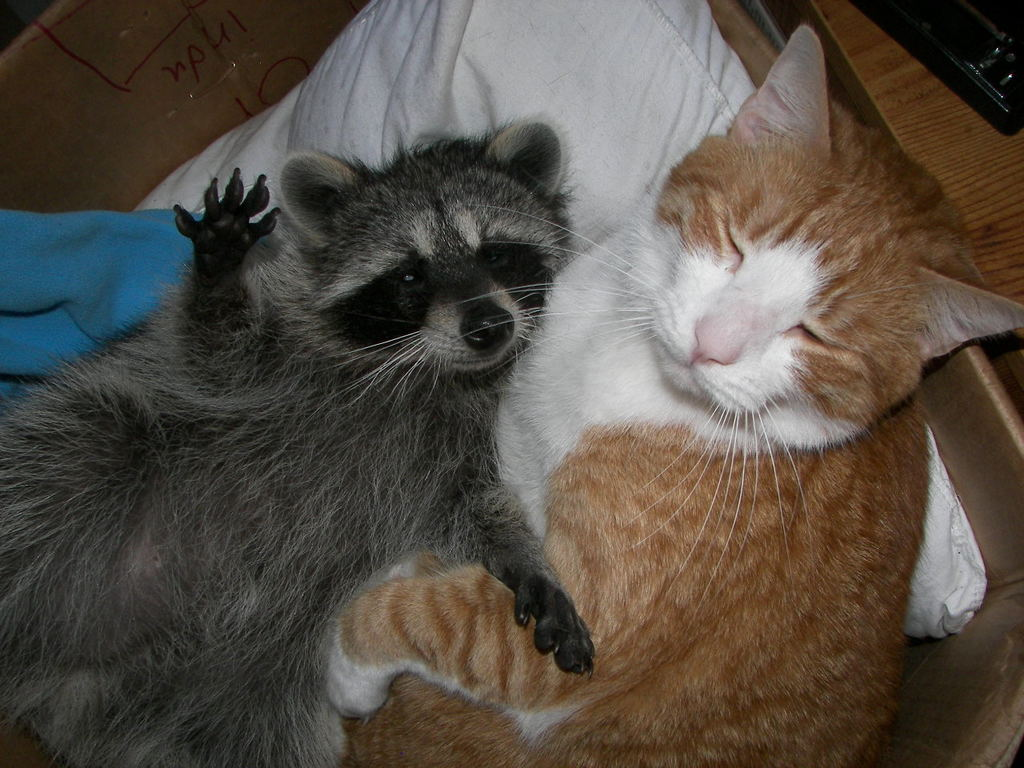raccoon: (18, 120, 591, 768)
